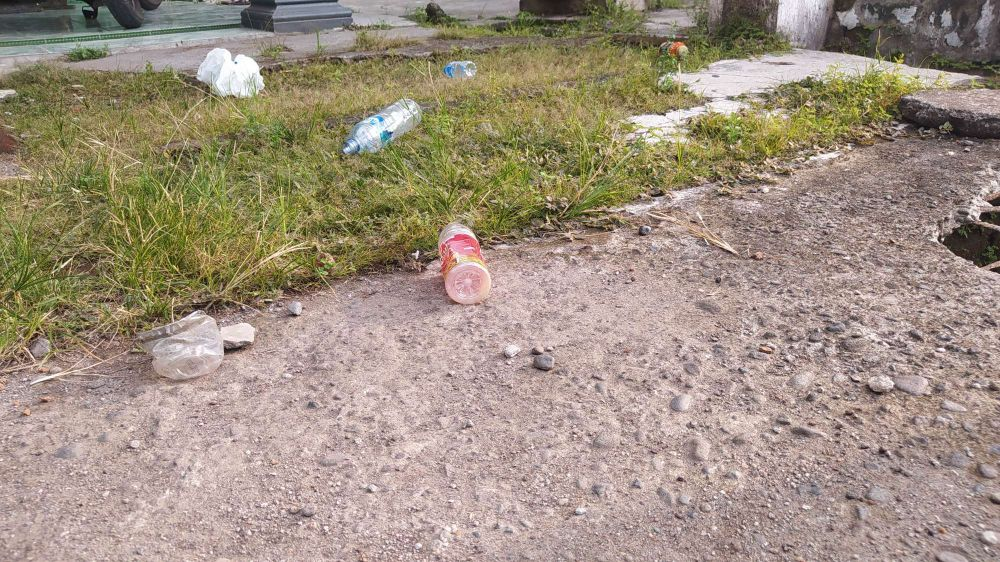botol: (425, 208, 501, 310), (347, 89, 430, 161), (654, 36, 692, 61), (441, 56, 478, 80)
plastik: (191, 43, 281, 112)
